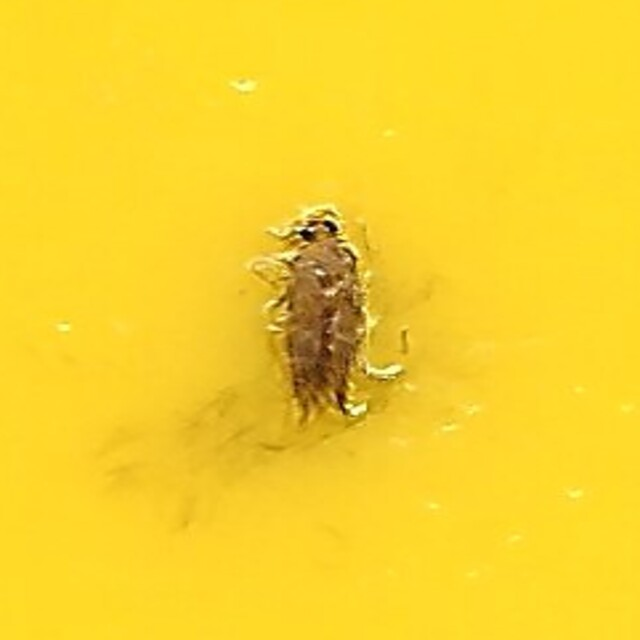Trichoptera: (266, 216, 374, 424)
